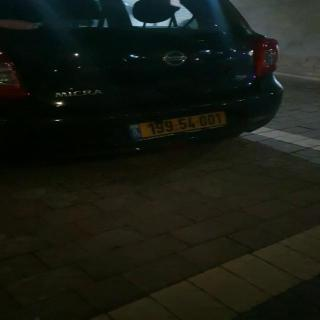LicensePlate: (140, 109, 227, 138)
